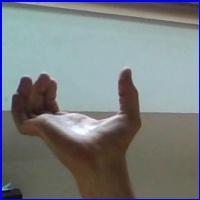B: (6, 62, 151, 171)
